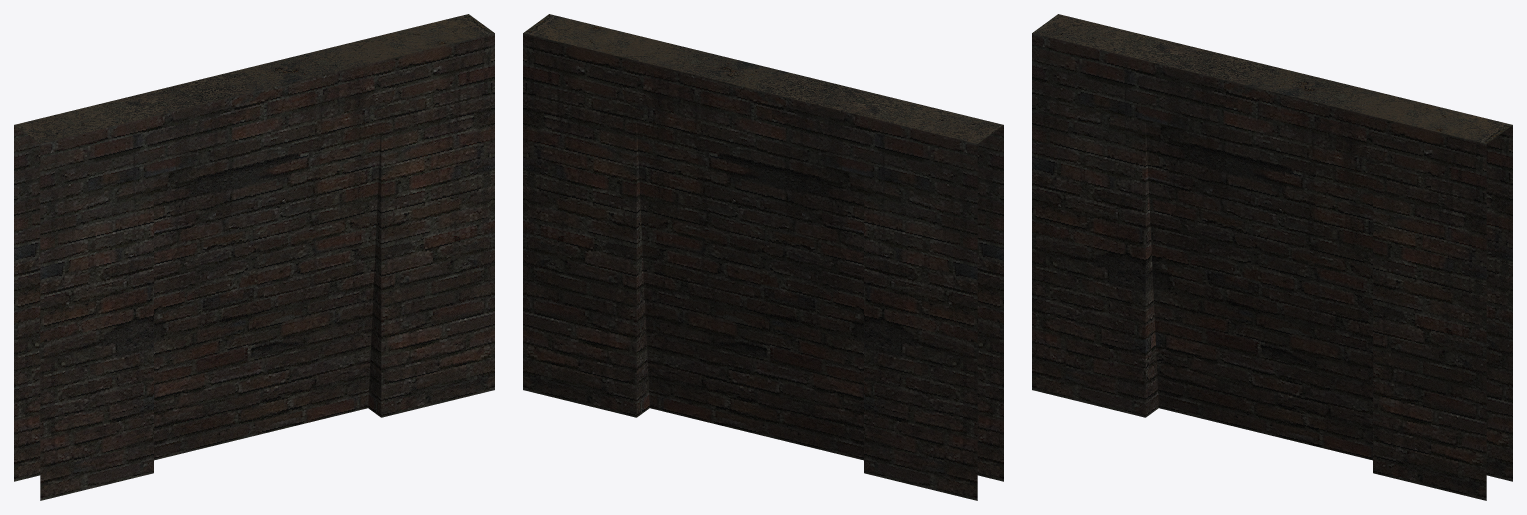
The model's file is wall_hs_1_t_2.glb.
3 renders of one model, left to right at view 1: azimuth 30°, elevation 25°; view 2: azimuth 150°, elevation 25°; view 3: azimuth 330°, elevation 25°, orthographic.
Parts seen in each view (by area): view 1: wall_hs_1_t_2; view 2: wall_hs_1_t_2; view 3: wall_hs_1_t_2.
Boxes of the visible parts, bbox=[...] form: wall_hs_1_t_2: bbox=[14, 14, 494, 500]; wall_hs_1_t_2: bbox=[523, 14, 1003, 500]; wall_hs_1_t_2: bbox=[1032, 14, 1512, 500].
Bounding box in the file's own units: 4 × 3 × 0.4.
Materials: 2 (2 with a texture image).
